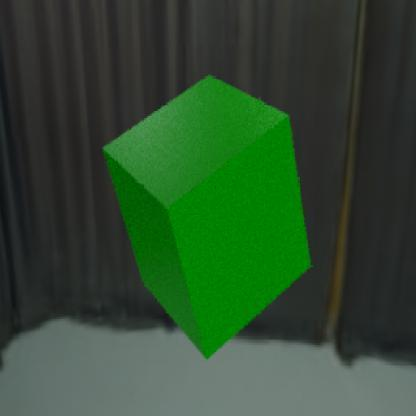cube: (101, 73, 311, 359)
